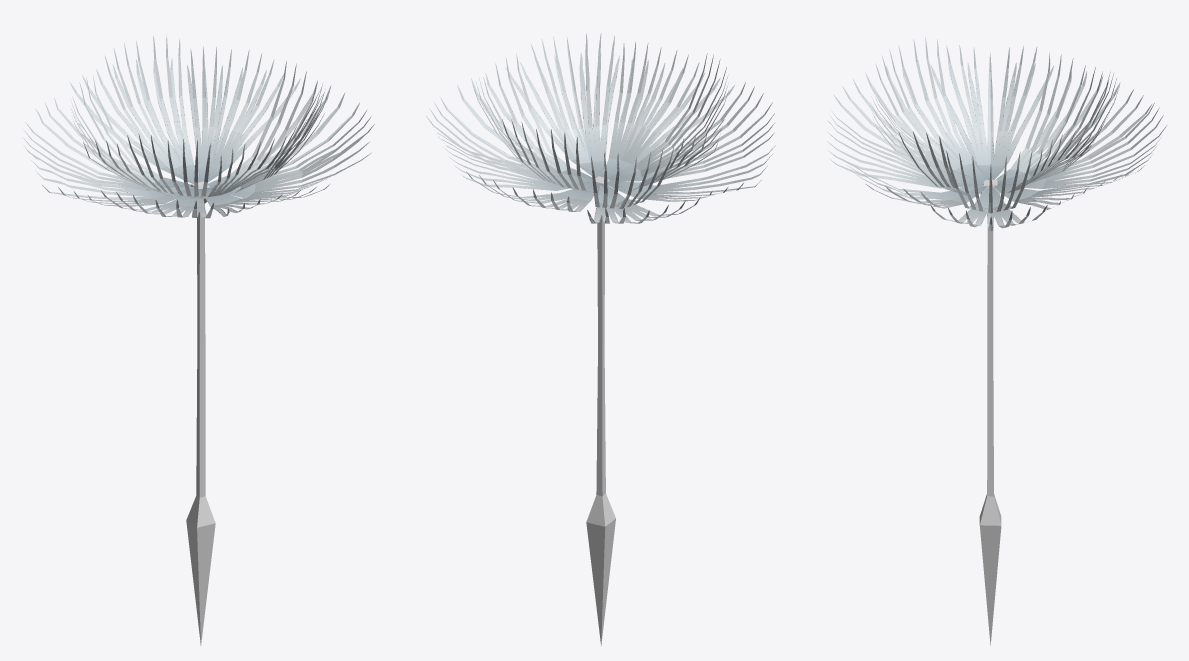
File: plant.fbx
3 renders of one model, left to right at view 1: azimuth 30°, elevation 25°; view 2: azimuth 150°, elevation 25°; view 3: azimuth 270°, elevation 25°, orthographic.
Parts seen in each view (by area): view 1: Cube, Sphere.015, Sphere.009, Sphere.001, Sphere.008, Sphere.002, Sphere.005, Sphere.003, Sphere.004, Sphere.014, Sphere.011, Sphere.010 (+5 smaller); view 2: Cube, Sphere.012, Sphere.016, Sphere.007, Sphere.004, Sphere.006, Sphere.010, Sphere.002, Sphere.014, Sphere.008, Sphere.003, Sphere.005 (+5 smaller); view 3: Cube, Sphere.013, Sphere.010, Sphere.011, Sphere.001, Sphere.003, Sphere.005, Sphere.007, Sphere.006, Sphere.015, Sphere.014, Sphere.002 (+5 smaller).
Part boxes in pixels (x1,y1,x2,y2): Cube: (186, 181, 215, 645); Sphere.015: (104, 35, 199, 182); Sphere.009: (190, 46, 274, 181); Sphere.001: (69, 58, 193, 183); Sphere.008: (187, 65, 300, 182); Sphere.002: (208, 80, 374, 185); Sphere.005: (23, 97, 190, 190); Sphere.003: (29, 151, 181, 206); Sphere.004: (225, 125, 371, 198); Sphere.014: (207, 61, 326, 184); Sphere.011: (71, 75, 190, 189); Sphere.010: (127, 134, 210, 197); Cube: (586, 176, 615, 645); Sphere.012: (530, 33, 614, 177); Sphere.016: (602, 42, 699, 177); Sphere.007: (610, 82, 774, 181); Sphere.004: (505, 52, 619, 177); Sphere.006: (608, 59, 734, 177); Sphere.010: (607, 53, 727, 180); Sphere.002: (426, 73, 592, 179); Sphere.014: (473, 53, 571, 176); Sphere.008: (437, 132, 591, 190); Sphere.003: (607, 145, 775, 201); Sphere.005: (587, 186, 700, 223); Cube: (979, 179, 1001, 645); Sphere.013: (946, 45, 1037, 179); Sphere.010: (875, 37, 986, 181); Sphere.011: (1010, 53, 1109, 172); Sphere.001: (1010, 103, 1166, 188); Sphere.003: (930, 62, 1054, 179); Sphere.005: (996, 71, 1151, 181); Sphere.007: (833, 60, 973, 178); Sphere.006: (827, 109, 982, 188); Sphere.015: (997, 72, 1119, 184); Sphere.014: (946, 151, 1032, 213); Sphere.002: (930, 188, 1047, 231).
Size of the model in its own units: 218 by 362 by 202.
